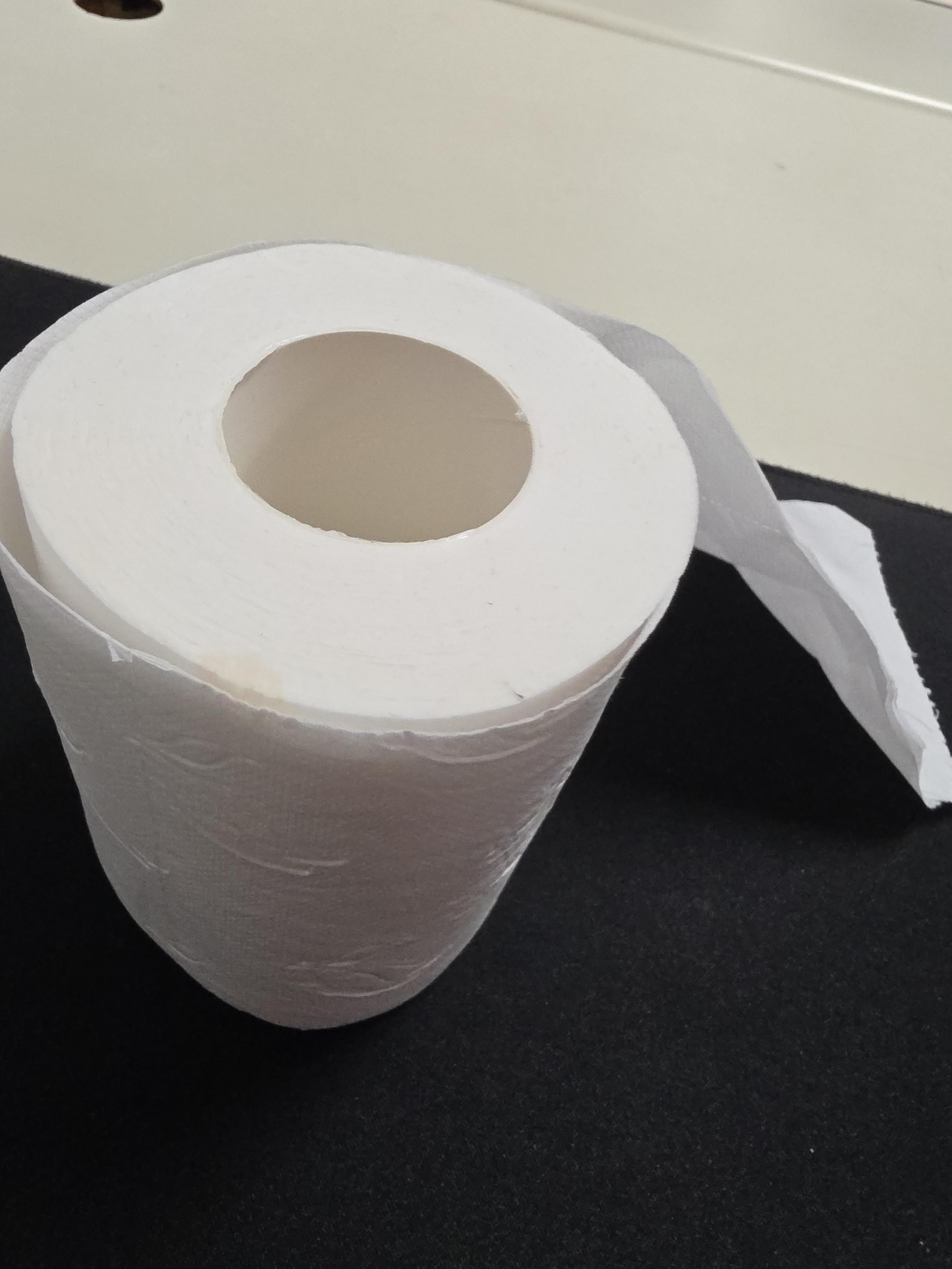tissue: (0, 239, 951, 1032)
